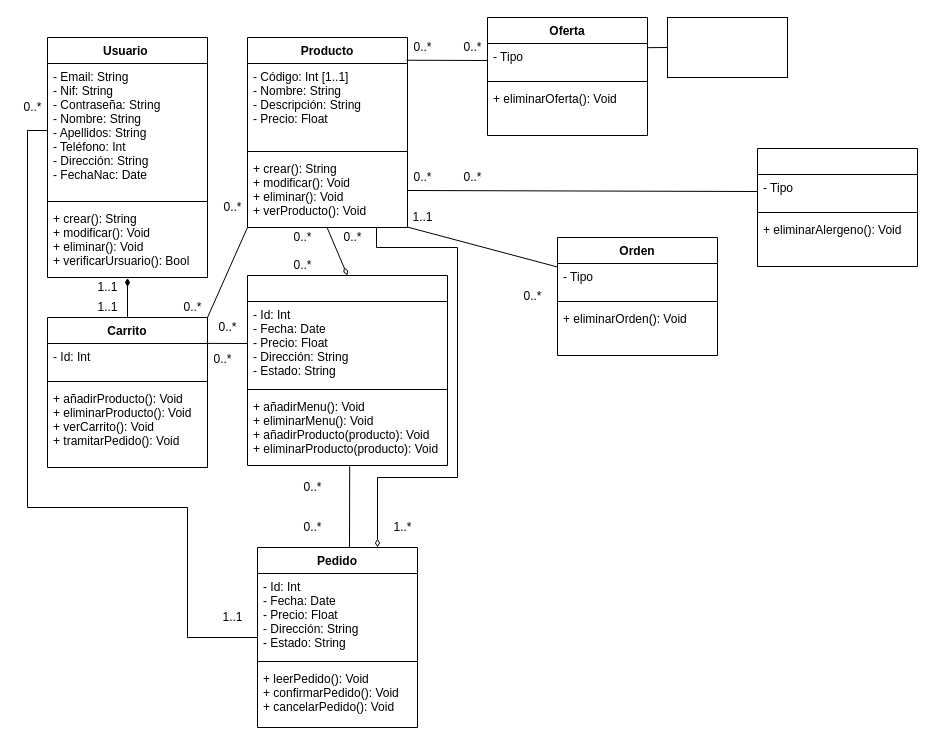
This 935x748 diagram has some shape labels left out. The shapes that lost their labels are listed below. From the top down, each one's box as (x1, y1, x2, y2) in pixels, then its label:
(666, 16, 788, 78): (30%, 2x1...)
(756, 148, 918, 266): Alérgenos
(246, 274, 448, 466): Menú
